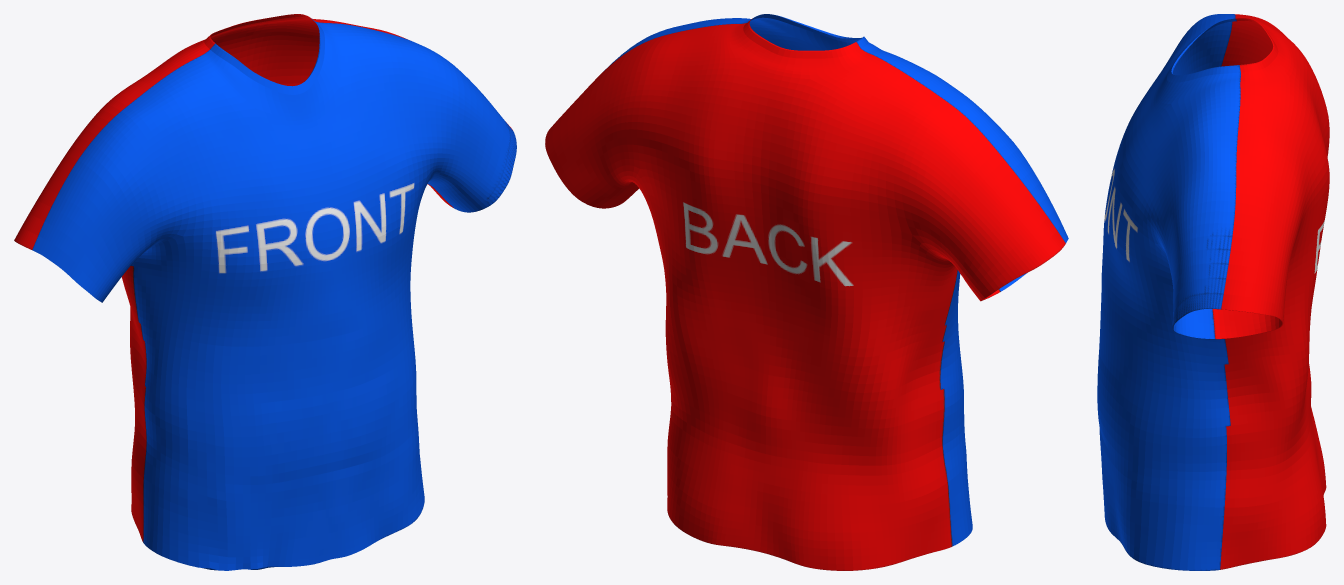
The model's file is digital_TShirt2.glb.
3 views of the same model, side by side, from view 1: azimuth 30°, elevation 25°; view 2: azimuth 150°, elevation 25°; view 3: azimuth 270°, elevation 25° (orthographic). The views are drawn at different scales.
Parts seen in each view (by area): view 1: tshirt; view 2: tshirt; view 3: tshirt.
Boxes of the visible parts, bbox=[...] form: tshirt: bbox=[14, 14, 516, 570]; tshirt: bbox=[545, 14, 1068, 570]; tshirt: bbox=[1097, 14, 1329, 570].
Bounding box in the file's own units: 5.64 × 5.32 × 2.36.
1 material, 1 textured.
